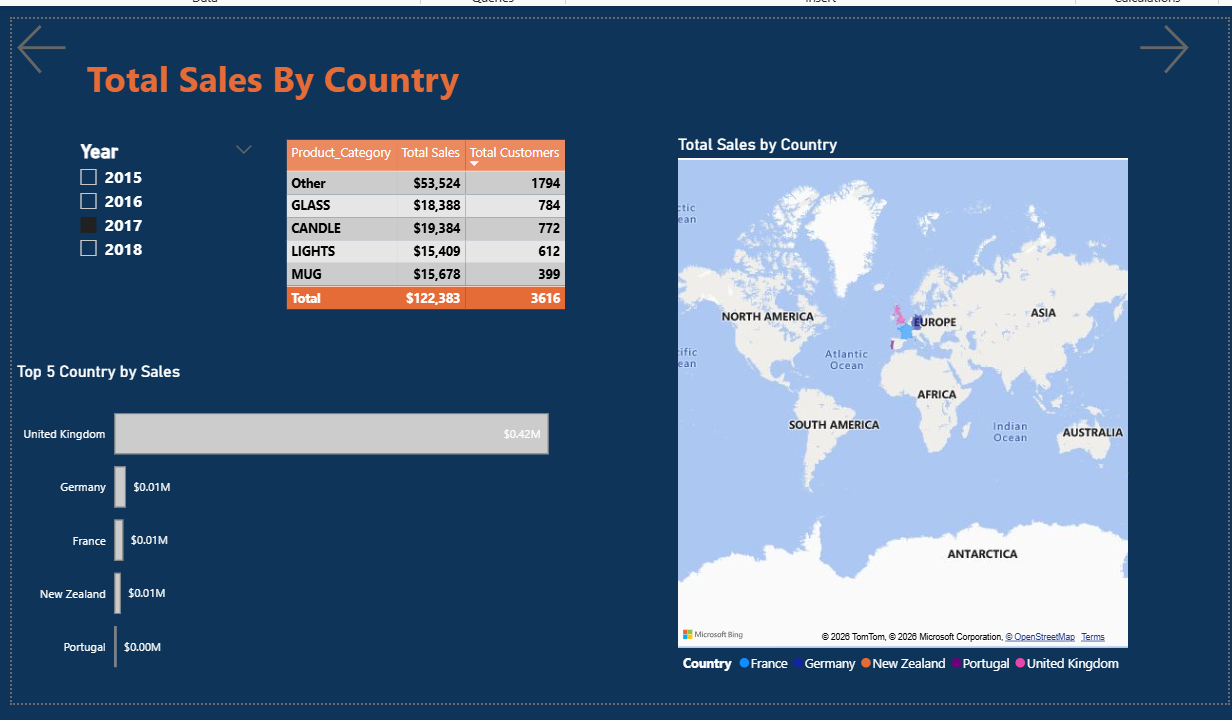

The dashboard page shown, as its layout file describes it:
{"tool":"powerbi","page":{"name":"Top County by Sales","canvas":[1280,720],"ordinal":3},"visuals":[{"type":"slicer","fields":{"Values":["Date.Year"]},"box":[58.8,122.5,206.2,191.2],"z":0},{"type":"textbox","box":[73.3,32,881.3,69.3],"z":1000},{"type":"actionButton","box":[0,0,100.3,63.8],"z":2000},{"type":"actionButton","box":[1179.7,0,100.3,63.8],"z":3000},{"type":"filledMap","title":"Total Sales by Country","fields":{"Category":["Invoice.Country"],"Series":["Invoice.Country"]},"box":[695.6,122.2,484.1,574.5],"z":4000},{"type":"clusteredBarChart","title":"Top 5 Country by Sales","fields":{"Category":["Invoice.Country"],"Y":["Sales.Total Sales"]},"box":[0,360.6,605.1,350.8],"z":5000},{"type":"tableEx","fields":{"Values":["Product.Product_Category","Sales.Total Sales","Sales.Total Customers"]},"box":[282.4,122.2,552.5,430.3],"z":6000}]}

Visuals, with their boxes on the page's 1280x720 design canvas (x1, y1, x2, y2). These are canvas units, not pixel positions in the 1232x720 screenshot, which may show the page scaled, cropped or inside an application window:
slicer - Date.Year: <box>59,122,265,314</box>
textbox: <box>73,32,955,101</box>
actionButton: <box>0,0,100,64</box>
actionButton: <box>1180,0,1280,64</box>
"Total Sales by Country" filledMap: <box>696,122,1180,697</box>
"Top 5 Country by Sales" clusteredBarChart: <box>0,361,605,711</box>
tableEx - Product.Product_Category x Sales.Total Sales: <box>282,122,835,552</box>
